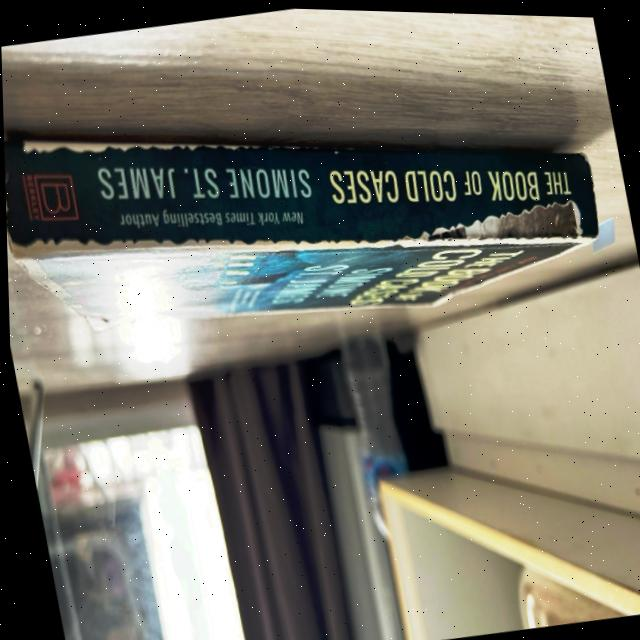Book: (3, 139, 598, 331)
